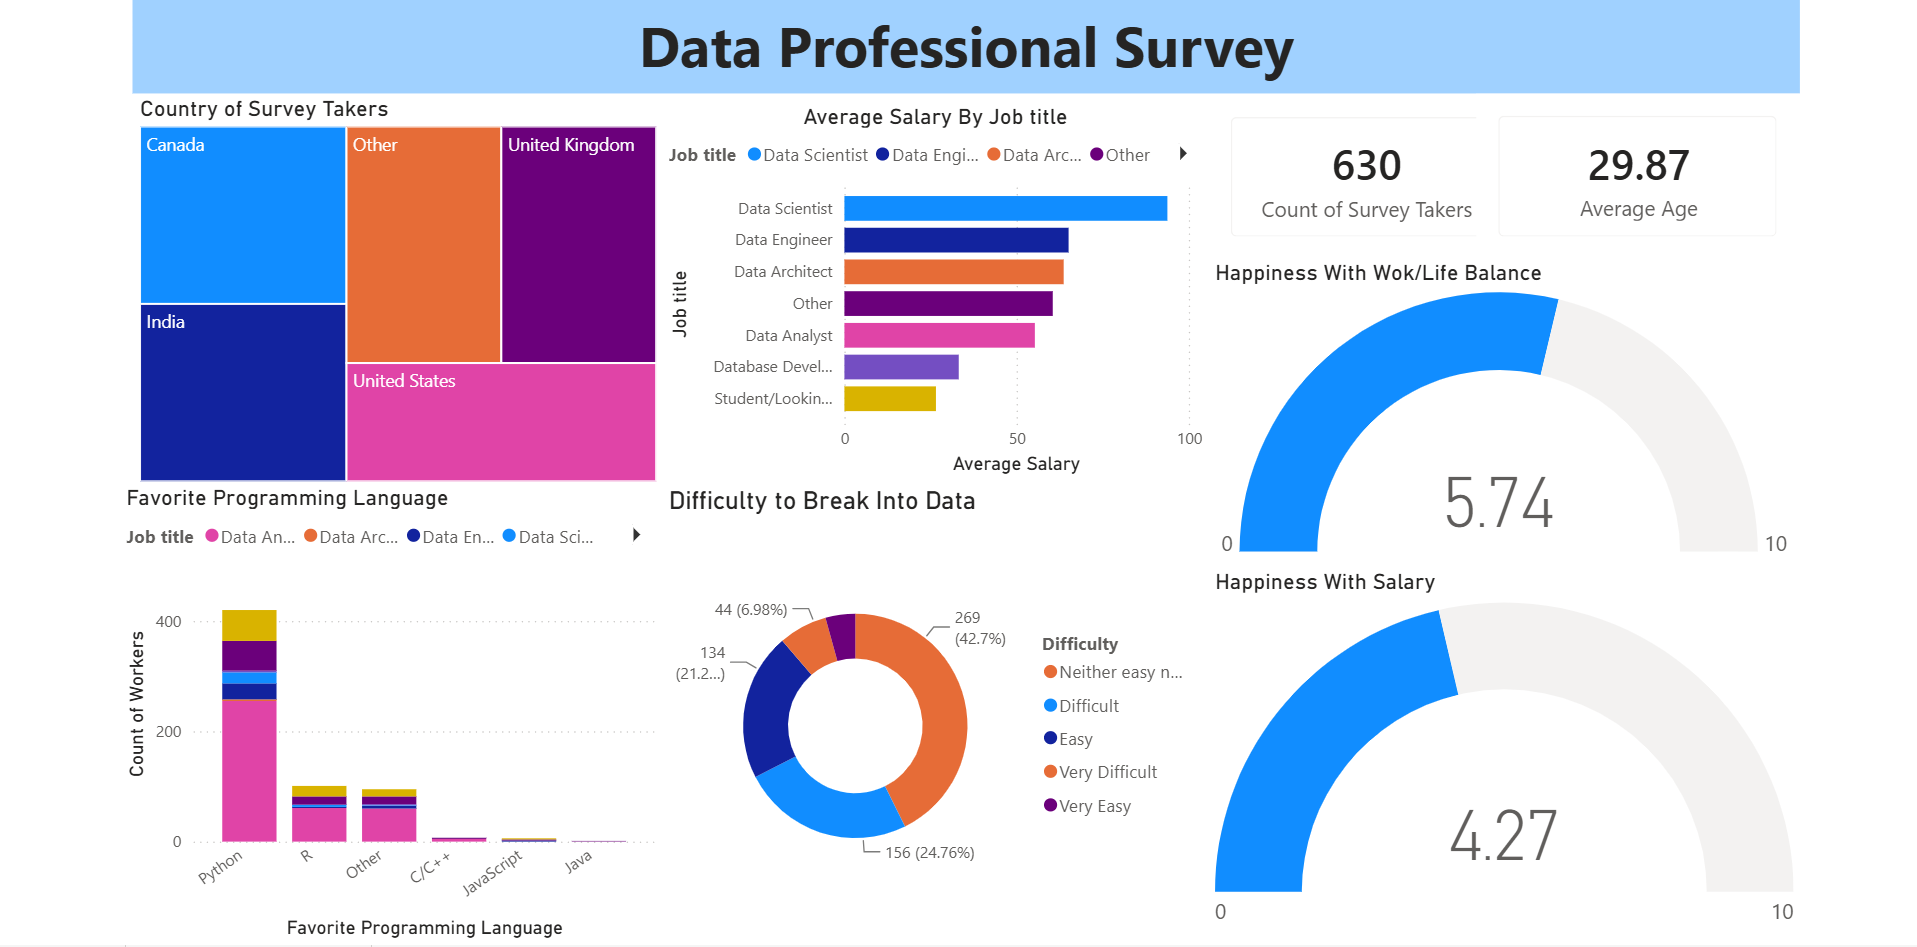

Layout of this report page (visuals, bound fields, positions):
{"tool":"powerbi","page":{"name":"第 1 頁","canvas":[1280,720],"ordinal":0},"visuals":[{"type":"textbox","box":[9.6,0,1270.7,71.4],"z":0},{"type":"cardVisual","fields":{"Data":["CountNonNull(Data.Unique ID)"]},"box":[829.5,72,239.1,125.3],"z":1000},{"type":"cardVisual","fields":{"Data":["Avg(Data.Q10 - Current Age)"]},"box":[1033.3,71.4,247,126.2],"z":2000},{"type":"barChart","title":"Average Salary By Job title","fields":{"Category":["Data.Q1 - Which Title Best Fits your Current Role?.1"],"Y":["Avg(Data.Average Salary)"],"Series":["Data.Q1 - Which Title Best Fits your Current Role?.1"]},"box":[413.3,77.8,416.2,288],"z":3000},{"type":"columnChart","title":"Favorite Programming Language","fields":{"Category":["Data.Q5 - Favorite Programming Language.1"],"Y":["CountNonNull(Data.Unique ID)"],"Series":["Data.Q1 - Which Title Best Fits your Current Role?.1"]},"box":[0,368.7,413.3,351.4],"z":4000},{"type":"treemap","title":"Country of Survey Takers","fields":{"Values":["Count(Data.Q11 - Which Country do you live in?.1)"],"Group":["Data.Q11 - Which Country do you live in?.1"]},"box":[10.1,72,403.2,299.6],"z":5000},{"type":"gauge","title":"Happiness With Wok/Life Balance","fields":{"Y":["Avg(Data.Q6 - How Happy are you in your Current Position with the following? (Work/Life Balance))"],"MinValue":["Min(Data.Q6 - How Happy are you in your Current Position with the following? (Work/Life Balance))1"],"MaxValue":["Max(Data.Q6 - How Happy are you in your Current Position with the following? (Work/Life Balance))2"]},"box":[829.5,197.3,450.8,234.7],"z":6000},{"type":"gauge","title":"Happiness With Salary","fields":{"Y":["Avg(Data.Q6 - How Happy are you in your Current Position with the following? (Salary))"],"MinValue":["Min(Data.Q6 - How Happy are you in your Current Position with the following? (Salary))"],"MaxValue":["Max(Data.Q6 - How Happy are you in your Current Position with the following? (Salary))"]},"box":[829.5,432,450.8,286.6],"z":7000},{"type":"donutChart","title":"Difficulty to Break Into Data","fields":{"Category":["Data.Q7 - How difficult was it for you to break into Data?"],"Y":["CountNonNull(Data.Q7 - How difficult was it for you to break into Data?)"]},"box":[413.3,370.1,416.2,348.5],"z":8000}]}

Visuals, with their boxes on the page's 1280x720 design canvas (x1, y1, x2, y2). These are canvas units, not pixel positions in the 1917x947 screenshot, which may show the page scaled, cropped or inside an application window:
textbox: {"left": 10, "top": 0, "right": 1280, "bottom": 71}
cardVisual - CountNonNull(Data.Unique ID): {"left": 830, "top": 72, "right": 1069, "bottom": 197}
cardVisual - Avg(Data.Q10 - Current Age): {"left": 1033, "top": 71, "right": 1280, "bottom": 198}
"Average Salary By Job title" barChart: {"left": 413, "top": 78, "right": 830, "bottom": 366}
"Favorite Programming Language" columnChart: {"left": 0, "top": 369, "right": 413, "bottom": 720}
"Country of Survey Takers" treemap: {"left": 10, "top": 72, "right": 413, "bottom": 372}
"Happiness With Wok/Life Balance" gauge: {"left": 830, "top": 197, "right": 1280, "bottom": 432}
"Happiness With Salary" gauge: {"left": 830, "top": 432, "right": 1280, "bottom": 719}
"Difficulty to Break Into Data" donutChart: {"left": 413, "top": 370, "right": 830, "bottom": 719}
